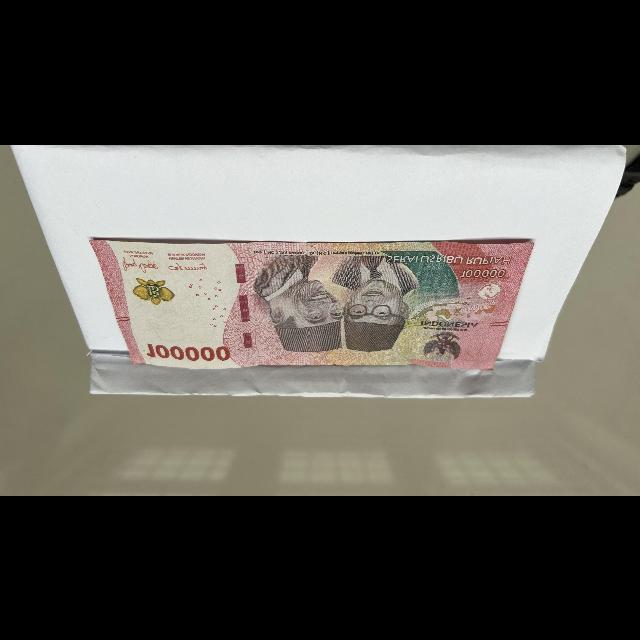Palsu-100k: (86, 237, 537, 372)
Tinta-Palsu-100k: (130, 275, 178, 306)
